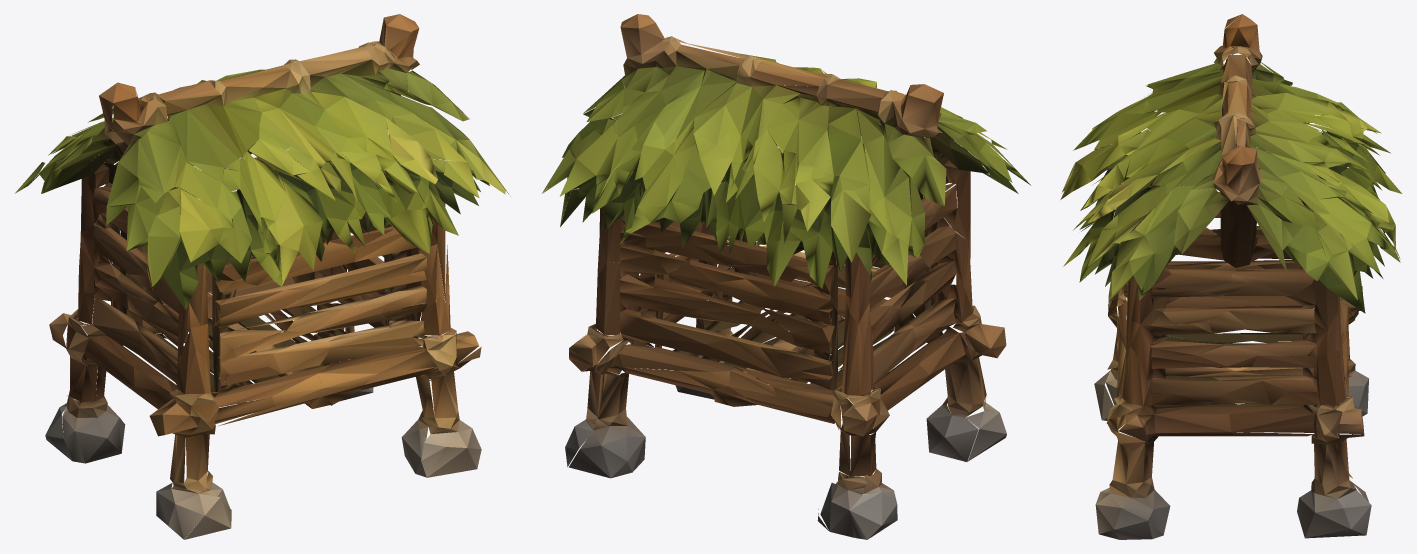
The model's file is building-foodBox.glb.
3 renders of one model, left to right at view 1: azimuth 30°, elevation 25°; view 2: azimuth 150°, elevation 25°; view 3: azimuth 270°, elevation 25°, orthographic. The views are drawn at different scales.
Visible parts, largest first — view 1: 0_foodBox; view 2: 0_foodBox; view 3: 0_foodBox.
Part boxes in pixels (x1=…): 0_foodBox: x1=14, y1=14, x2=511, y2=539; 0_foodBox: x1=542, y1=14, x2=1030, y2=539; 0_foodBox: x1=1060, y1=14, x2=1401, y2=539.
Size of the model in its own units: 1.69 by 1.75 by 1.4.
